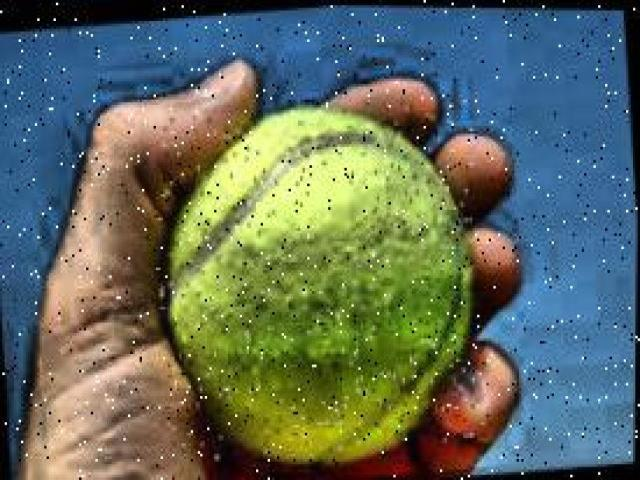tennis-ball: (168, 107, 475, 468)
